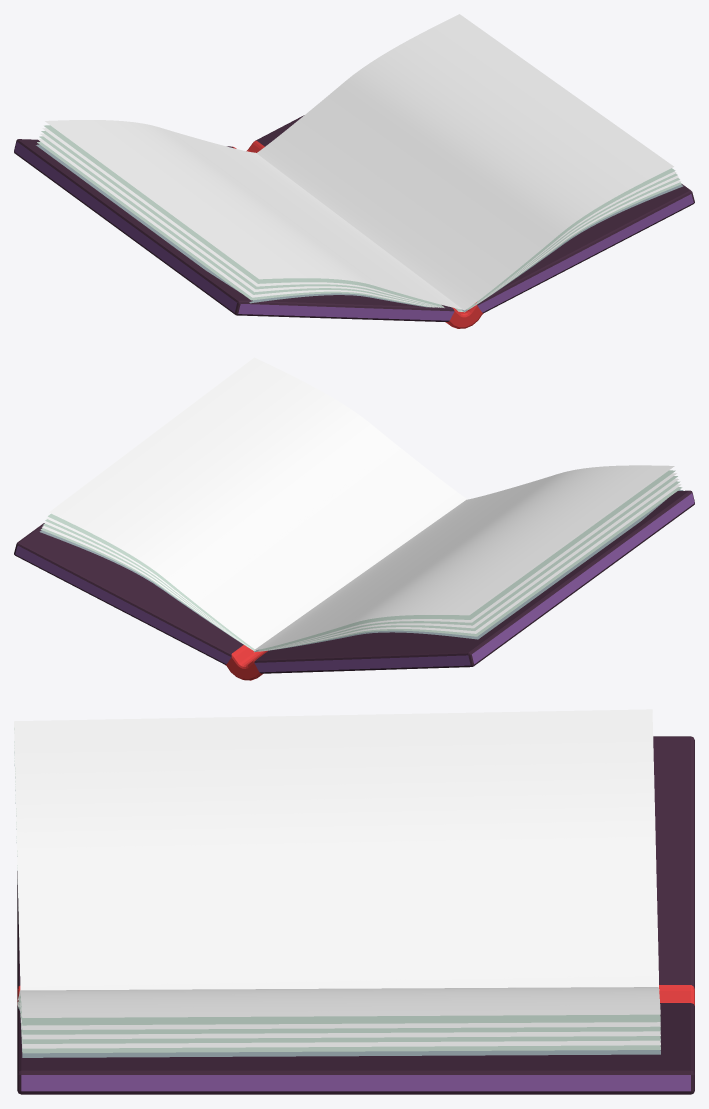
Rendered from G477Proj2OpenBook.fbx.
3 renders of one model, top to bottom at view 1: azimuth 30°, elevation 25°; view 2: azimuth 150°, elevation 25°; view 3: azimuth 270°, elevation 25°, orthographic. The views are drawn at different scales.
Parts seen in each view (by area): view 1: OpenBook; view 2: OpenBook; view 3: OpenBook.
Part boxes in pixels (<box>): OpenBook: <box>14,14,694,328</box>; OpenBook: <box>14,357,694,680</box>; OpenBook: <box>14,709,694,1094</box>.
Bounding box in the file's own units: 73.29 × 16.79 × 61.88.
